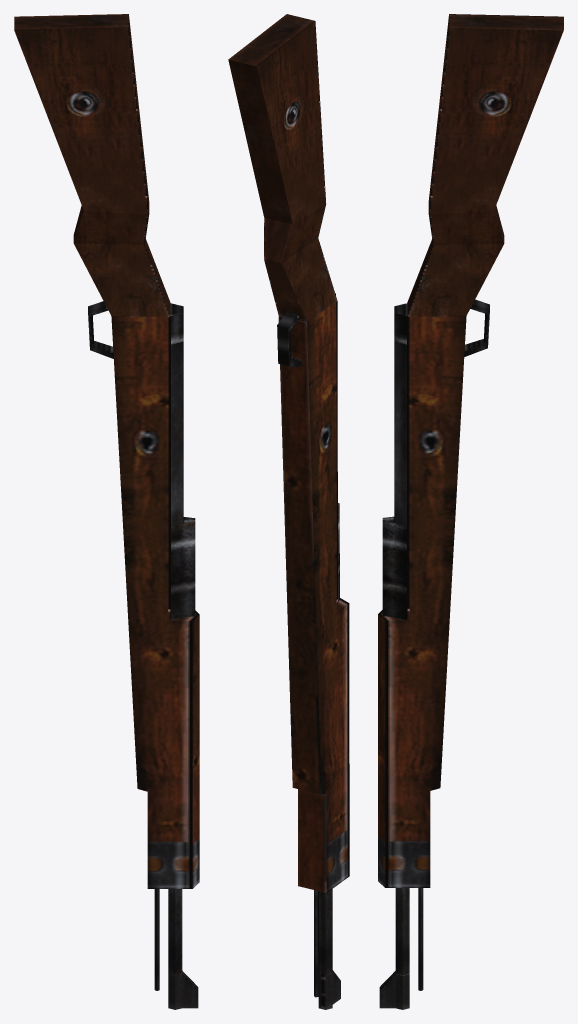
File: m98_rifle158_wtf.obj
The picture shows the model from 3 angles, left to right: view 1: azimuth 90°, elevation 25°; view 2: azimuth 150°, elevation 25°; view 3: azimuth 270°, elevation 25°; orthographic projection. The views are drawn at different scales.
Parts seen in each view (by area): view 1: group3; view 2: group3; view 3: group3.
Boxes of the visible parts, x1,y1,x2,y2 form: group3: (14,14,199,1009); group3: (228,14,349,1009); group3: (378,14,563,1009).
Bounding box in the file's own units: 20.78 × 660 × 113.
